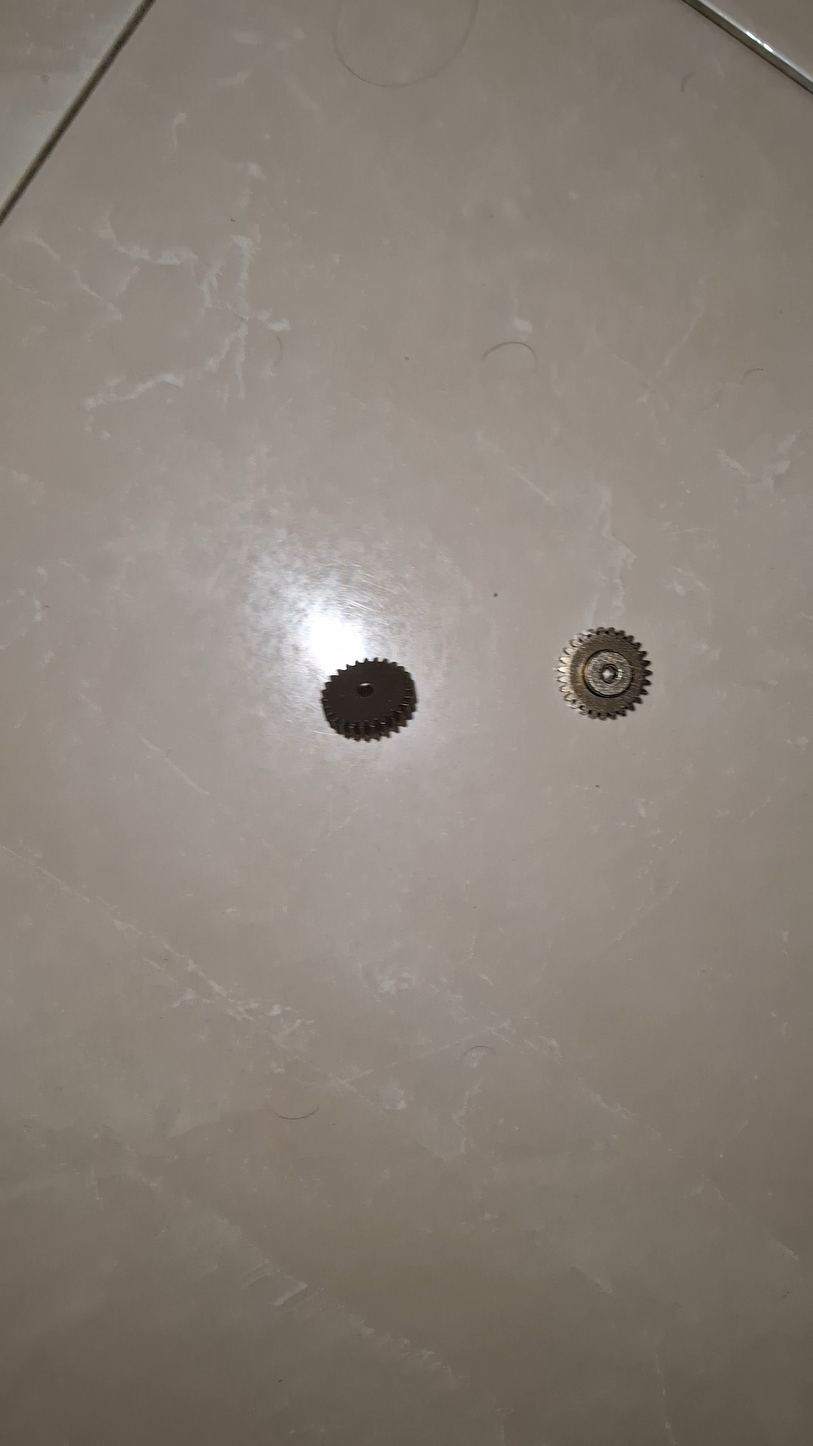spur gear: (558, 628, 650, 718), (321, 659, 416, 740)
